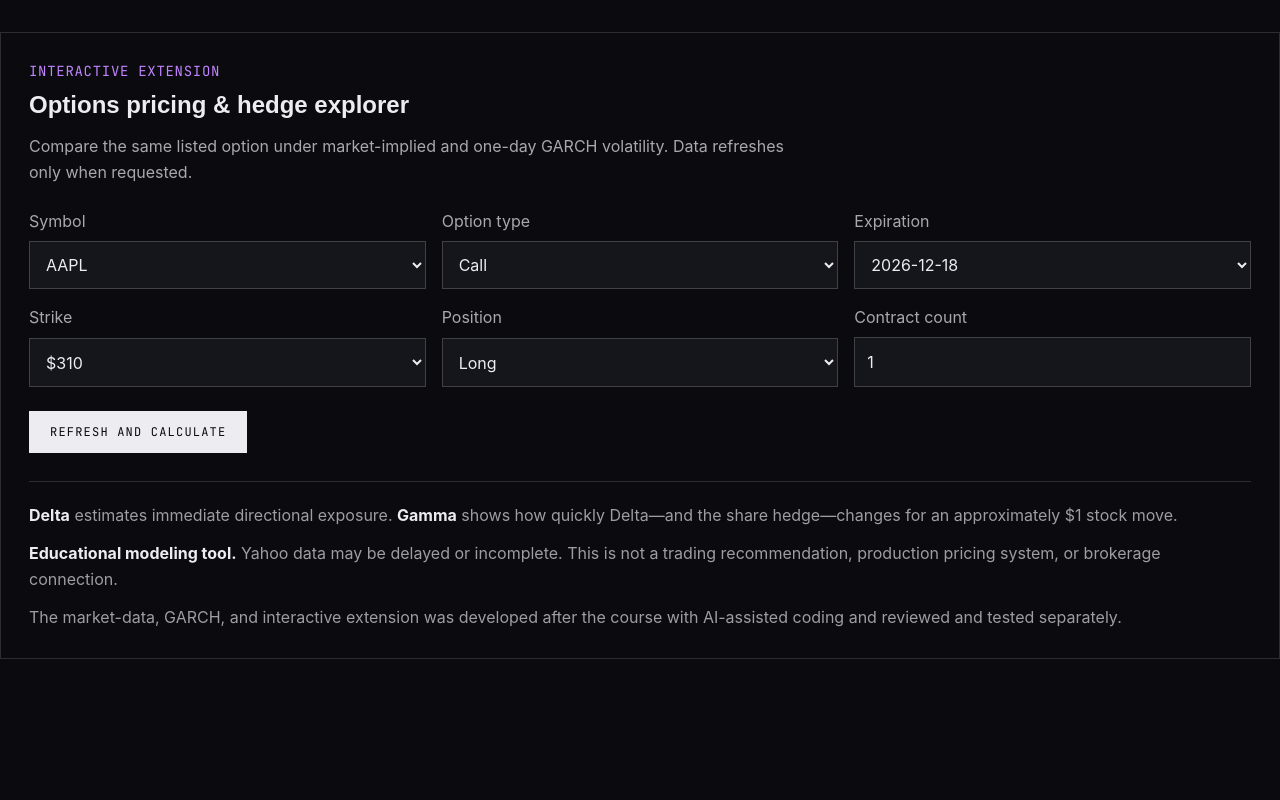
it: keeps errors usable and displays the educational disclosure
Click the button "Refresh and calculate".
click(138, 432)  # box [29,411,247,453]
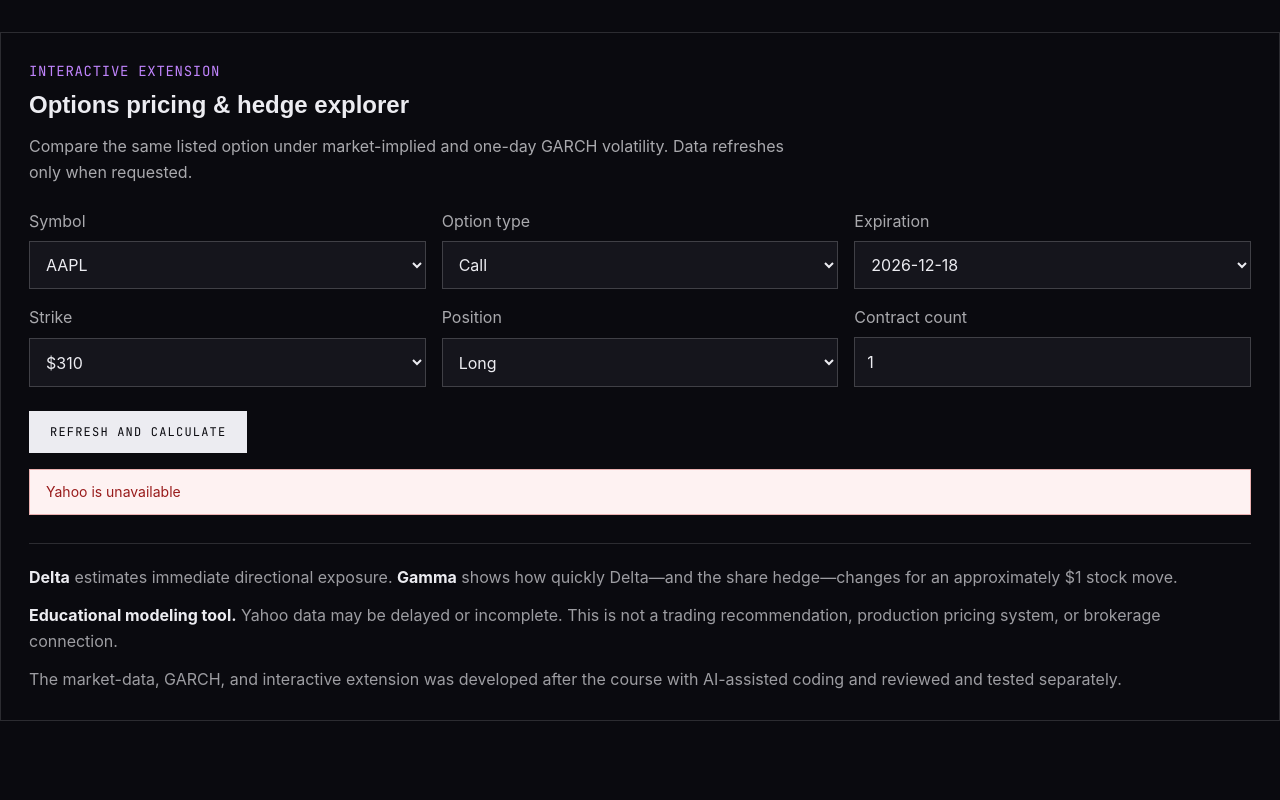
Expected: the text "Educational modeling tool" is shown, [29,605,237,625]
Expected: the text "Yahoo is unavailable" is shown, [29,469,1251,515]
